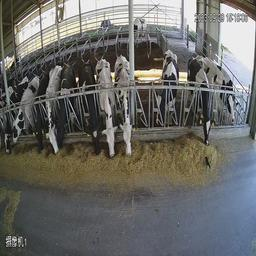cow: (147, 49, 182, 143), (113, 51, 139, 165), (94, 53, 117, 171), (75, 59, 100, 164), (188, 58, 215, 155), (1, 69, 28, 161), (11, 57, 36, 155), (53, 56, 75, 162), (30, 64, 49, 162), (204, 44, 228, 117), (46, 58, 62, 159), (222, 60, 241, 129), (133, 13, 151, 44)
